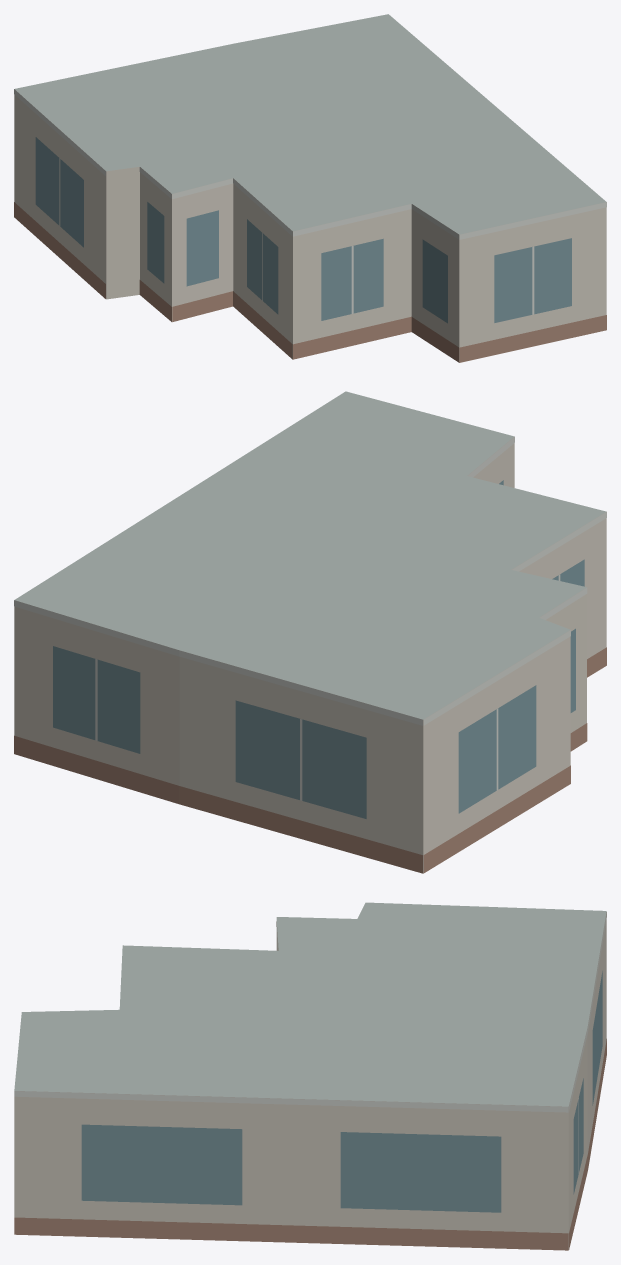
Rendered from survey-upis-32761932.glb.
3 renders of one model, top to bottom at view 1: azimuth 30°, elevation 25°; view 2: azimuth 150°, elevation 25°; view 3: azimuth 270°, elevation 25°, orthographic. The views are drawn at different scales.
Parts seen in each view (by area): view 1: survey-upis-32761932.tmp; view 2: survey-upis-32761932.tmp; view 3: survey-upis-32761932.tmp.
Part boxes in pixels (bbox=[...]): survey-upis-32761932.tmp: bbox=[14, 14, 606, 362]; survey-upis-32761932.tmp: bbox=[14, 391, 606, 873]; survey-upis-32761932.tmp: bbox=[14, 902, 606, 1250].
Size of the model in its own units: 9.3 by 3.05 by 11.4.
